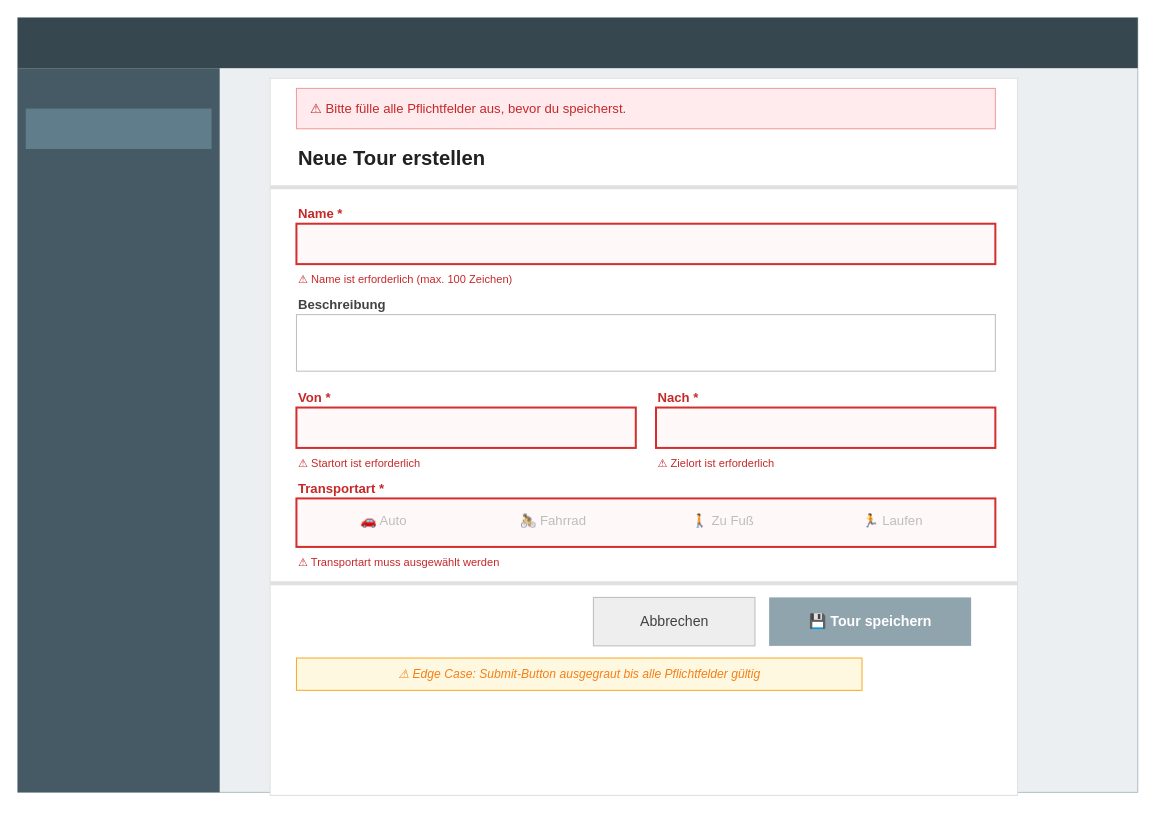
This 1155x813 diagram has some shape labels left out. The shapes that lost their labels are listed below. From the top down, each one's centre as x and y in pixels, then its label:
At point 577,42: "🗺 TourPlanner".
At point 118,128: "➕ Neue Tour".
